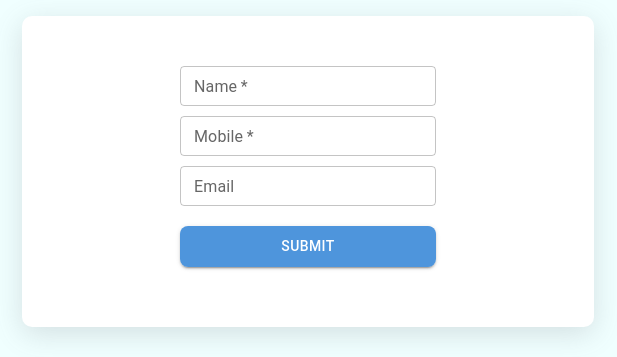
Test case: contact form › contact form › mobile field › should only accept numbers
Type "tapish123@ #" into the field with test id "mobile" at (308, 136), box x1=180 y1=116 x2=436 y2=156
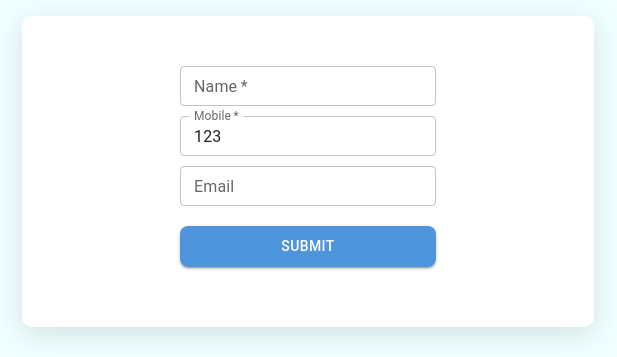
Check: the field with test id "mobile" holds "123", box x1=180 y1=116 x2=436 y2=156
